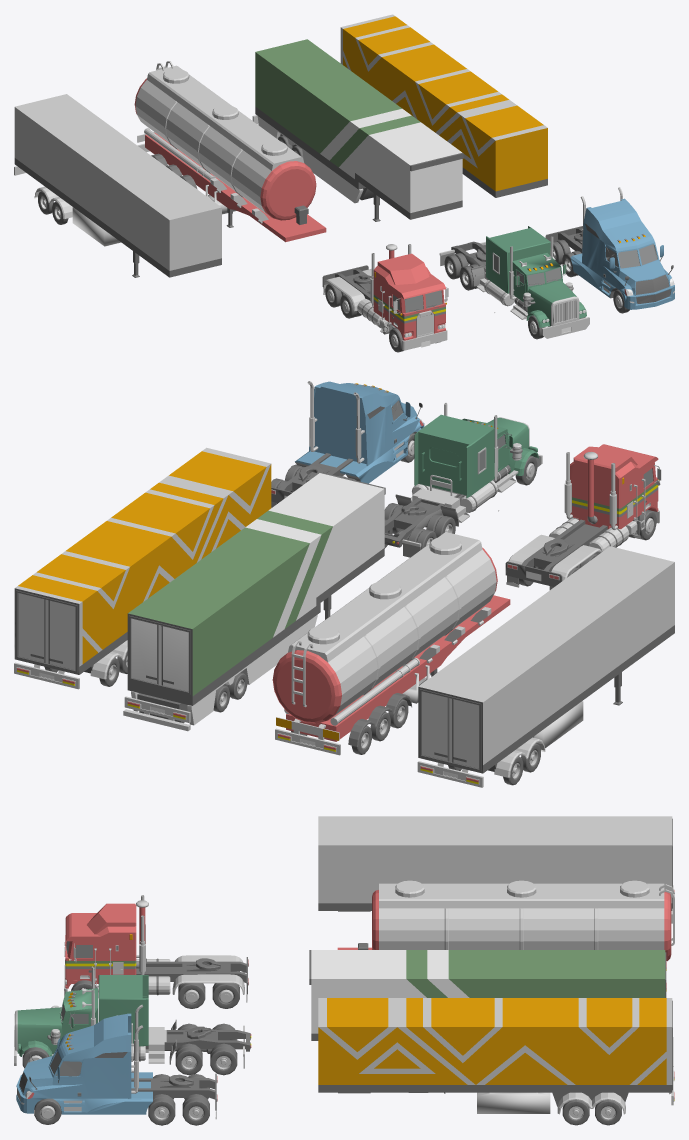
Rendered from truck.glb.
The picture shows the model from 3 angles, top to bottom: view 1: azimuth 30°, elevation 25°; view 2: azimuth 150°, elevation 25°; view 3: azimuth 270°, elevation 25°; orthographic projection. The views are drawn at different scales.
Visible parts, largest first — view 1: TrailerBox_3, TrailerBox_1, TrailerBox_2, Bl, Cabin_1, Cabin, cabin, TrailerBox, Box, Object2_3, bottom, Object2_1 (+5 smaller); view 2: TrailerBox_3, TrailerBox_1, TrailerBox_2, Bl, Cabin_1, Cabin, Box, TrailerBox, bottom, Object2_3, Bottom, Object1 (+14 smaller); view 3: TrailerBox_2, TrailerBox_1, Bl, TrailerBox_3, Cabin_1, Cabin, cabin, Box, bottom, 02, Object2_2, Bottom (+12 smaller).
Part boxes in pixels (left/top/right/bottom): TrailerBox_3: left=255, top=39, right=463, bottom=221; TrailerBox_1: left=14, top=94, right=221, bottom=277; TrailerBox_2: left=340, top=14, right=547, bottom=197; Bl: left=134, top=61, right=316, bottom=223; Cabin_1: left=570, top=198, right=674, bottom=309; Cabin: left=373, top=253, right=445, bottom=340; cabin: left=512, top=253, right=579, bottom=326; TrailerBox: left=145, top=132, right=326, bottom=242; Box: left=486, top=226, right=550, bottom=293; Object2_3: left=257, top=116, right=363, bottom=203; bottom: left=322, top=265, right=370, bottom=300; Object2_1: left=72, top=207, right=120, bottom=246; TrailerBox_3: left=127, top=472, right=385, bottom=723; TrailerBox_1: left=418, top=546, right=674, bottom=773; TrailerBox_2: left=14, top=447, right=271, bottom=674; Bl: left=272, top=532, right=497, bottom=725; Cabin_1: left=295, top=381, right=424, bottom=483; Cabin: left=570, top=444, right=658, bottom=529; Box: left=414, top=414, right=494, bottom=498; TrailerBox: left=286, top=595, right=510, bottom=741; bottom: left=505, top=519, right=607, bottom=586; Object2_3: left=131, top=615, right=317, bottom=725; Bottom: left=384, top=487, right=464, bottom=547; Object1: left=275, top=717, right=340, bottom=755; TrailerBox_2: left=318, top=998, right=672, bottom=1106; TrailerBox_1: left=318, top=816, right=672, bottom=911; Bl: left=372, top=880, right=674, bottom=961; TrailerBox_3: left=309, top=950, right=666, bottom=1040; Cabin_1: left=16, top=1013, right=152, bottom=1114; Cabin: left=64, top=903, right=136, bottom=988; cabin: left=14, top=988, right=97, bottom=1055; Box: left=98, top=975, right=148, bottom=1046; bottom: left=136, top=957, right=248, bottom=994; 02: left=148, top=1074, right=209, bottom=1125; Object2_2: left=477, top=1092, right=550, bottom=1113; Bottom: left=145, top=1026, right=250, bottom=1053.
Size of the model in its own units: 1286 by 313 by 1689.
